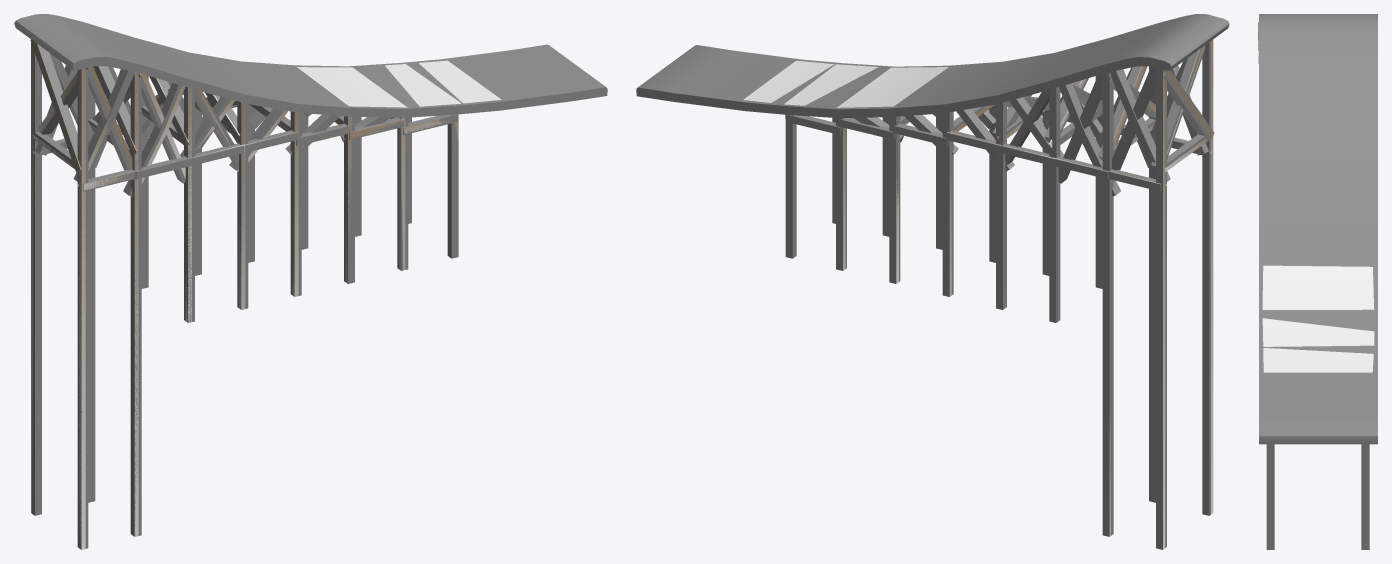
Rendered from ut_ramp_big_wood.DAE.
3 renders of one model, left to right at view 1: azimuth 30°, elevation 25°; view 2: azimuth 150°, elevation 25°; view 3: azimuth 270°, elevation 25°, orthographic.
Parts seen in each view (by area): view 1: colmesh-1, Ramp_big_c1000, Ramp_big_c140; view 2: colmesh-1, Ramp_big_c1000, Ramp_big_c140; view 3: colmesh-1, Ramp_big_c140.
Boxes of the visible parts, left/top/right/bottom form: colmesh-1: left=14, top=14, right=607, bottom=549; Ramp_big_c1000: left=31, top=41, right=458, bottom=549; Ramp_big_c140: left=297, top=60, right=501, bottom=107; colmesh-1: left=636, top=14, right=1229, bottom=549; Ramp_big_c1000: left=841, top=39, right=1214, bottom=549; Ramp_big_c140: left=743, top=60, right=948, bottom=107; colmesh-1: left=1258, top=14, right=1377, bottom=549; Ramp_big_c140: left=1262, top=265, right=1374, bottom=372.
Size of the model in its own units: 26.92 by 5.13 by 23.72.
